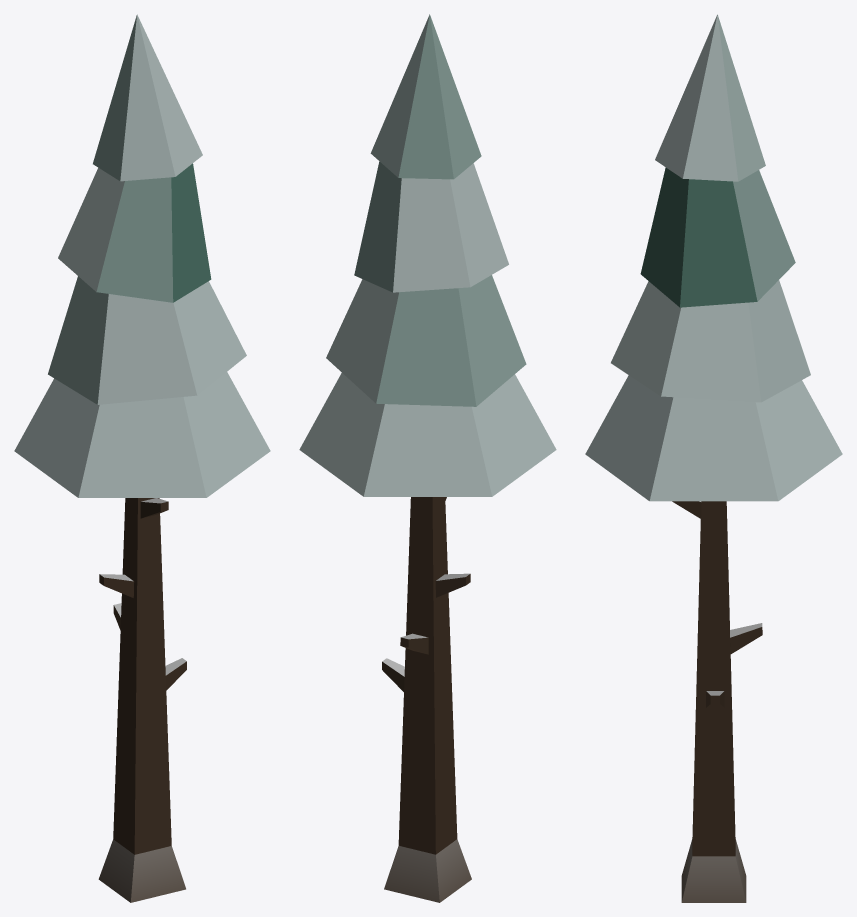
Rendered from sw_pine_tall.glb.
3 views of the same model, side by side, from view 1: azimuth 30°, elevation 25°; view 2: azimuth 150°, elevation 25°; view 3: azimuth 270°, elevation 25° (orthographic).
Visible parts, largest first — view 1: sw_pine_tall; view 2: sw_pine_tall; view 3: sw_pine_tall.
Part boxes in pixels (x1,y1,x2,y2): sw_pine_tall: (14, 14, 270, 902); sw_pine_tall: (299, 14, 556, 902); sw_pine_tall: (585, 14, 842, 902).
Size of the model in its own units: 1.97 by 8.5 by 2.27.
